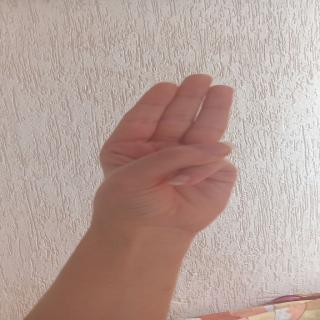THA: (82, 68, 285, 230)
